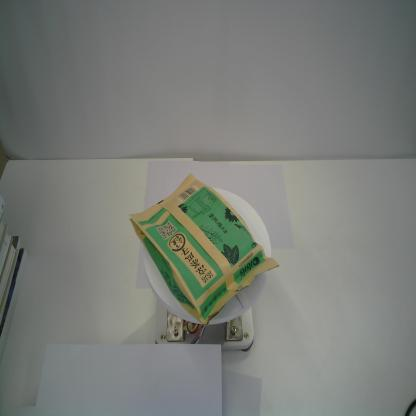Dried Food: (127, 173, 280, 328)
